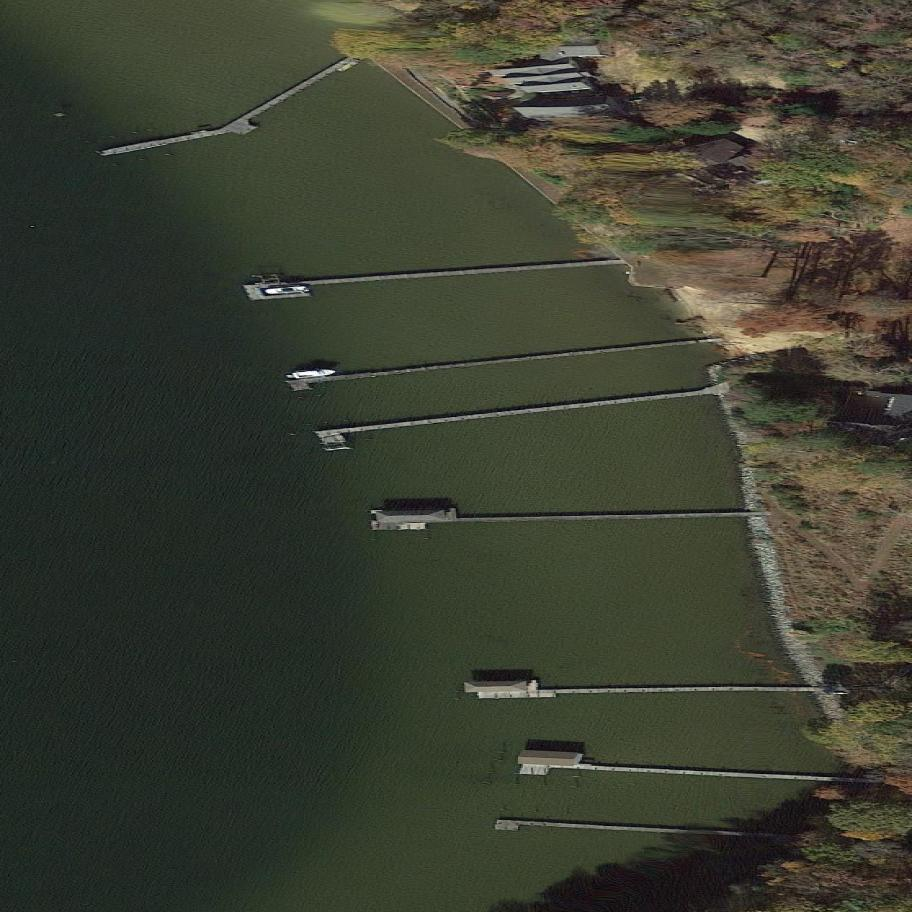ship: (279, 367, 342, 382), (263, 285, 314, 295)
